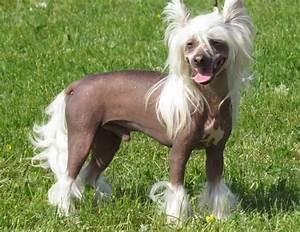dog: (25, 0, 257, 226)
